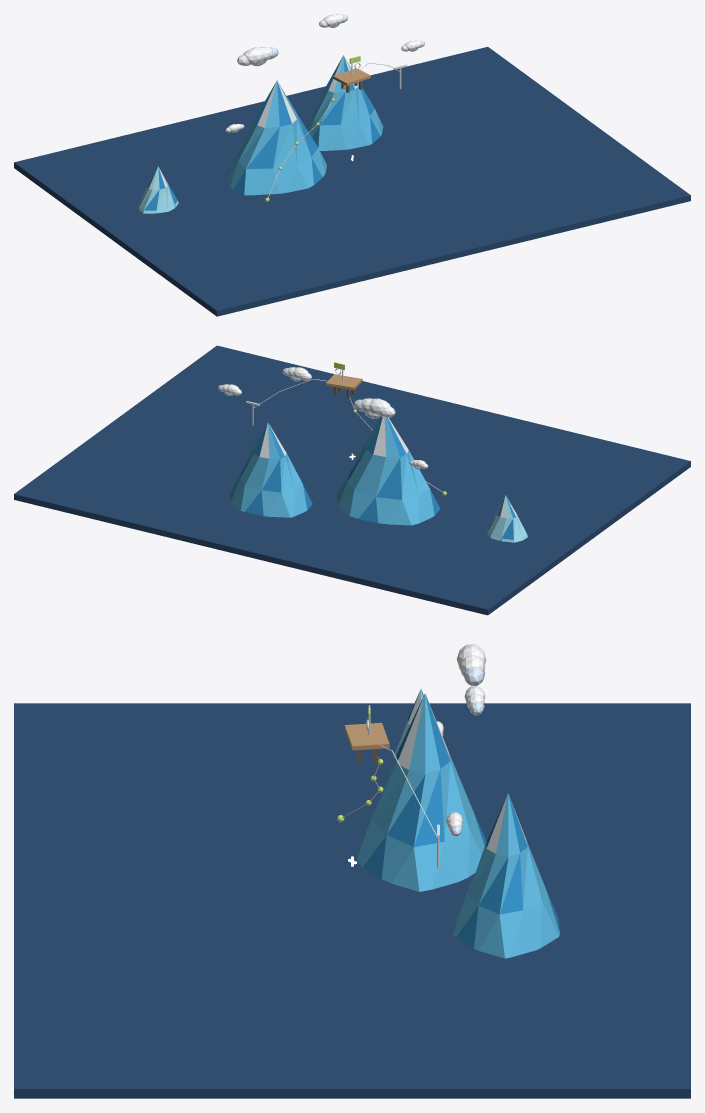
File: environment.glb
The picture shows the model from 3 angles, top to bottom: view 1: azimuth 30°, elevation 25°; view 2: azimuth 150°, elevation 25°; view 3: azimuth 270°, elevation 25°; orthographic projection. The views are drawn at different scales.
Visible parts, largest first — view 1: ENV_Ground, ENV_MainPeak_FacetedBody, ENV_BackPeak_FacetedBody, ENV_SidePeak_FacetedBody, ENV_Cloud_Large; view 2: ENV_Ground, ENV_MainPeak_FacetedBody, ENV_BackPeak_FacetedBody, ENV_SidePeak_FacetedBody, ENV_Cloud_Large; view 3: ENV_Ground, ENV_MainPeak_FacetedBody, ENV_BackPeak_FacetedBody, ENV_SummitDeck, ENV_Cloud_Large.
Part boxes in pixels (x1=…): ENV_Ground: x1=14, y1=47, x2=690, y2=316; ENV_MainPeak_FacetedBody: x1=225, y1=80, x2=326, y2=195; ENV_BackPeak_FacetedBody: x1=306, y1=55, x2=383, y2=150; ENV_SidePeak_FacetedBody: x1=138, y1=166, x2=178, y2=213; ENV_Cloud_Large: x1=237, y1=46, x2=278, y2=66; ENV_Ground: x1=14, y1=345, x2=690, y2=615; ENV_MainPeak_FacetedBody: x1=337, y1=416, x2=440, y2=525; ENV_BackPeak_FacetedBody: x1=229, y1=422, x2=312, y2=517; ENV_SidePeak_FacetedBody: x1=487, y1=495, x2=528, y2=542; ENV_Cloud_Large: x1=353, y1=398, x2=395, y2=418; ENV_Ground: x1=14, y1=703, x2=690, y2=1098; ENV_MainPeak_FacetedBody: x1=356, y1=693, x2=486, y2=891; ENV_BackPeak_FacetedBody: x1=453, y1=793, x2=559, y2=958; ENV_SummitDeck: x1=344, y1=722, x2=389, y2=750; ENV_Cloud_Large: x1=456, y1=644, x2=486, y2=685.
Bounding box in the file's own units: 31 × 9.3 × 23.
